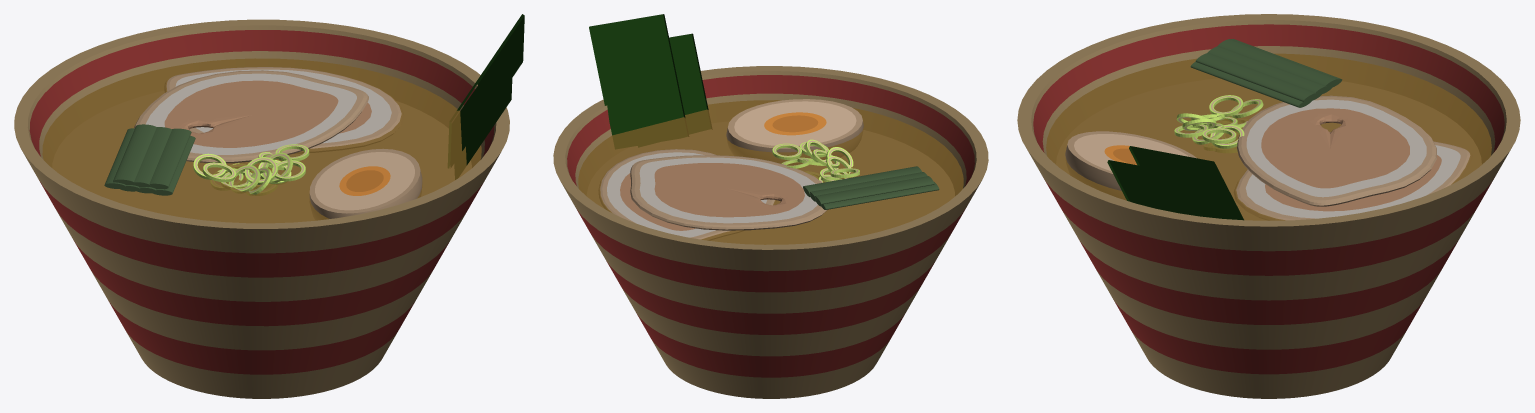
File: ra-men.fbx
3 views of the same model, side by side, from view 1: azimuth 30°, elevation 25°; view 2: azimuth 150°, elevation 25°; view 3: azimuth 270°, elevation 25° (orthographic). The views are drawn at different scales.
Parts seen in each view (by area): view 1: 円柱, 円柱.001, 円柱.002, 立方体.004, 球, 立方体, 立方体.002, 円柱.023, 円柱.025, 立方体.001, 円柱.024, 円柱.022 (+1 smaller); view 2: 円柱, 円柱.001, 立方体.004, 円柱.002, 立方体.002, 球, 立方体, 立方体.001, 円柱.023, 円柱.025, 円柱.022, 円柱.024; view 3: 円柱, 円柱.001, 立方体.004, 円柱.002, 立方体, 球, 立方体.001, 立方体.002, 円柱.025, 円柱.023, 円柱.024, 円柱.019.
Boxes of the visible parts, x1,y1,x2,y2 form: 円柱: (14,19,509,398); 円柱.001: (42,58,481,223); 円柱.002: (52,91,471,222); 立方体.004: (134,70,368,163); 球: (309,148,422,220); 立方体: (164,67,403,153); 立方体.002: (448,14,524,167); 円柱.023: (113,124,156,184); 円柱.025: (149,128,191,189); 立方体.001: (454,78,512,179); 円柱.024: (132,127,171,187); 円柱.022: (104,128,134,188); 円柱: (553,66,988,398); 円柱.001: (578,100,963,244); 立方体.004: (630,155,826,230); 円柱.002: (587,121,954,244); 立方体.002: (589,14,688,148); 球: (726,99,863,165); 立方体: (599,149,776,240); 立方体.001: (638,33,711,147); 円柱.023: (814,176,934,204); 円柱.025: (803,166,921,194); 円柱.022: (821,182,939,209); 円柱.024: (810,172,927,200); 円柱: (1017,14,1520,398); 円柱.001: (1046,53,1491,220); 立方体.004: (1237,95,1436,206); 円柱.002: (1056,78,1481,220); 立方体: (1234,132,1472,220); 球: (1065,131,1196,199); 立方体.001: (1107,160,1214,217); 立方体.002: (1129,146,1243,220); 円柱.025: (1195,53,1317,102); 円柱.023: (1217,39,1338,87); 円柱.024: (1207,46,1328,94); 円柱.019: (1190,61,1312,107).
Bounding box in the file's own units: 418 × 262 × 399.
